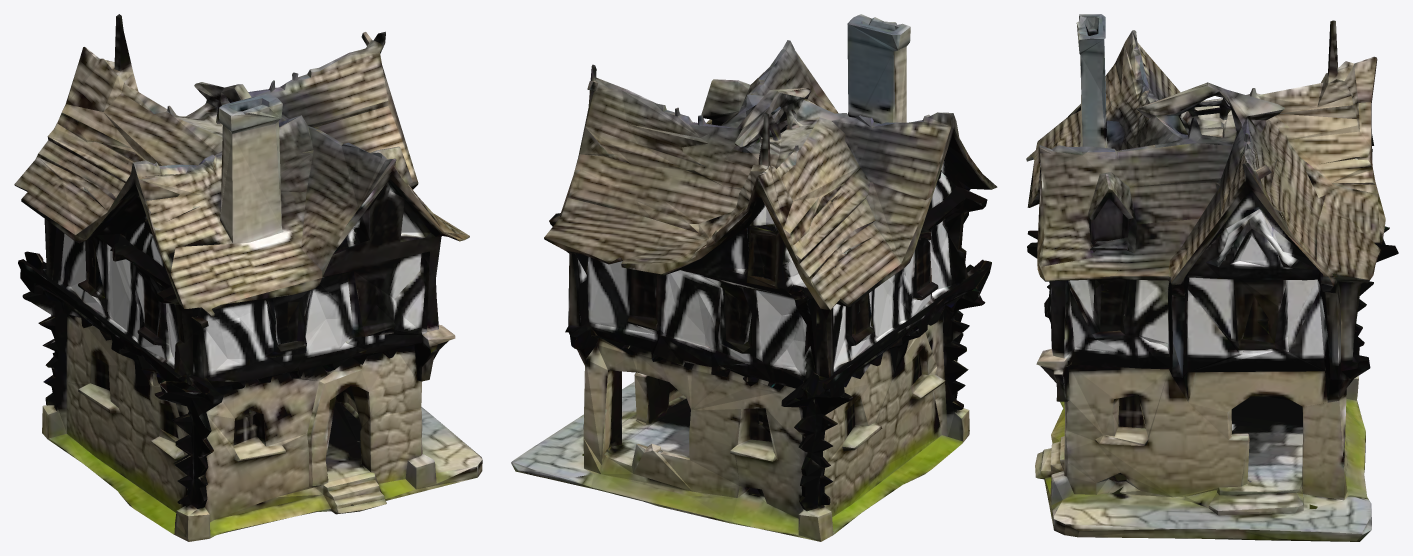
File: war_farmhouse_ruin_01.glb
The picture shows the model from 3 angles, left to right: view 1: azimuth 30°, elevation 25°; view 2: azimuth 150°, elevation 25°; view 3: azimuth 270°, elevation 25°; orthographic projection.
Parts seen in each view (by area): view 1: geometry_0; view 2: geometry_0; view 3: geometry_0.
Boxes of the visible parts, <box> form: geometry_0: <box>14,14,482,541</box>; geometry_0: <box>511,14,997,541</box>; geometry_0: <box>1026,14,1398,541</box>.
Bounding box in the file's own units: 0.855 × 0.9991 × 0.8315.
1 material, 1 textured.
